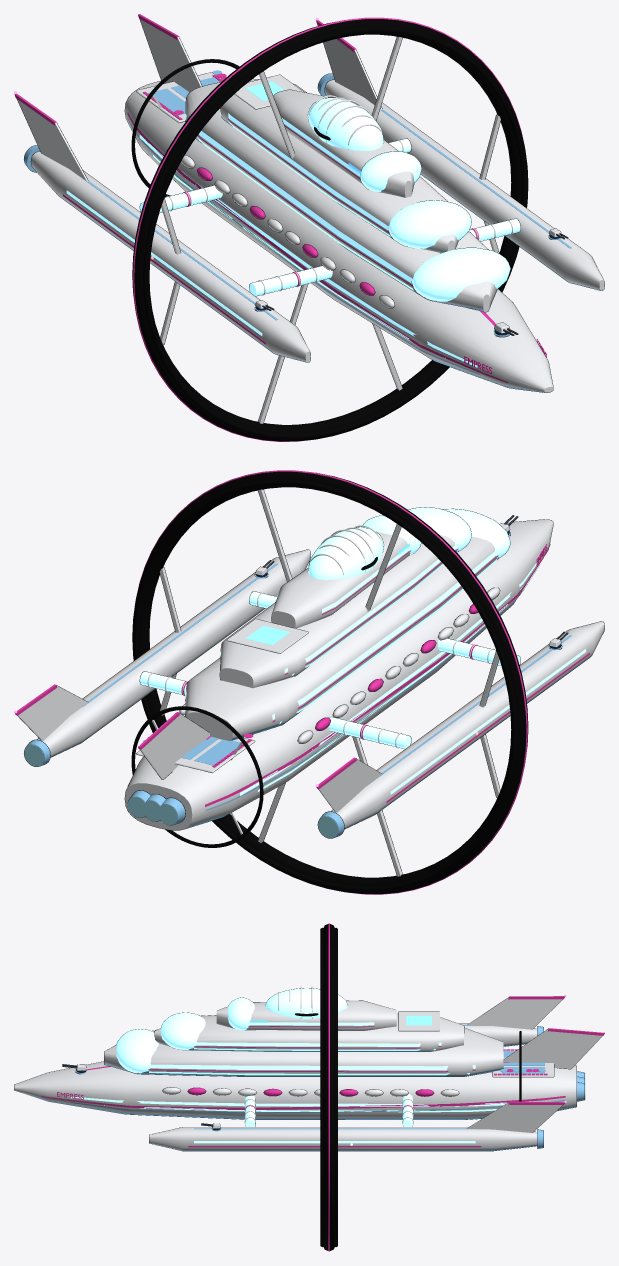
Rendered from Capital_Liner.fbx.
3 renders of one model, top to bottom at view 1: azimuth 30°, elevation 25°; view 2: azimuth 150°, elevation 25°; view 3: azimuth 270°, elevation 25°, orthographic. The views are drawn at different scales.
Parts seen in each view (by area): view 1: Hull, GrandRing_Glass, Outrigger-1, Tier1, Outrigger1, GrandRing_Rim-4.2, Tier2, Tier1_Lounge, Tier3, Tier2_Lounge, Palace_Glass, FinD (+21 smaller); view 2: Hull, GrandRing_Glass, Tier1, Outrigger1, Outrigger-1, Tier2, GrandRing_Rim4.2, Tier3, Palace_Glass, FinD, OutFin1, OutFin-1 (+22 smaller); view 3: Hull, Tier1, Outrigger1, Tier2, GrandRing_Glass, Tier3, FinD, OutFin-1, OutFin1, Palace_Glass, Tier1_Lounge, Tier1_Winside+ (+17 smaller).
Boxes of the visible parts, bbox=[...] form: Hull: bbox=[124, 81, 553, 392]; GrandRing_Glass: bbox=[132, 19, 528, 441]; Outrigger-1: bbox=[30, 151, 310, 362]; Tier1: bbox=[185, 82, 497, 312]; Outrigger1: bbox=[324, 79, 604, 290]; GrandRing_Rim-4.2: bbox=[143, 26, 527, 439]; Tier2: bbox=[220, 78, 458, 252]; Tier1_Lounge: bbox=[411, 247, 510, 301]; Tier3: bbox=[273, 89, 414, 197]; Tier2_Lounge: bbox=[388, 200, 471, 248]; Palace_Glass: bbox=[307, 97, 383, 151]; FinD: bbox=[139, 19, 202, 92]; Hull: bbox=[124, 519, 553, 830]; GrandRing_Glass: bbox=[132, 471, 528, 894]; Tier1: bbox=[185, 536, 498, 740]; Outrigger1: bbox=[37, 549, 310, 757]; Outrigger-1: bbox=[331, 621, 604, 829]; Tier2: bbox=[219, 535, 458, 688]; GrandRing_Rim4.2: bbox=[133, 479, 517, 892]; Tier3: bbox=[271, 531, 410, 628]; Palace_Glass: bbox=[307, 527, 383, 580]; FinD: bbox=[140, 713, 209, 779]; OutFin1: bbox=[17, 685, 88, 740]; OutFin-1: bbox=[318, 758, 382, 812]; Hull: bbox=[14, 1061, 576, 1119]; Tier1: bbox=[104, 1027, 503, 1076]; Outrigger1: bbox=[149, 1127, 537, 1151]; Tier2: bbox=[154, 1013, 464, 1051]; GrandRing_Glass: bbox=[323, 924, 334, 1250]; Tier3: bbox=[216, 1000, 396, 1030]; FinD: bbox=[503, 1028, 602, 1069]; OutFin-1: bbox=[467, 997, 562, 1029]; OutFin1: bbox=[467, 1102, 562, 1132]; Palace_Glass: bbox=[265, 988, 347, 1019]; Tier1_Lounge: bbox=[116, 1029, 158, 1073]; Tier1_Winside+: bbox=[149, 1064, 475, 1070].
Size of the model in its own units: 204 by 204 by 368.
